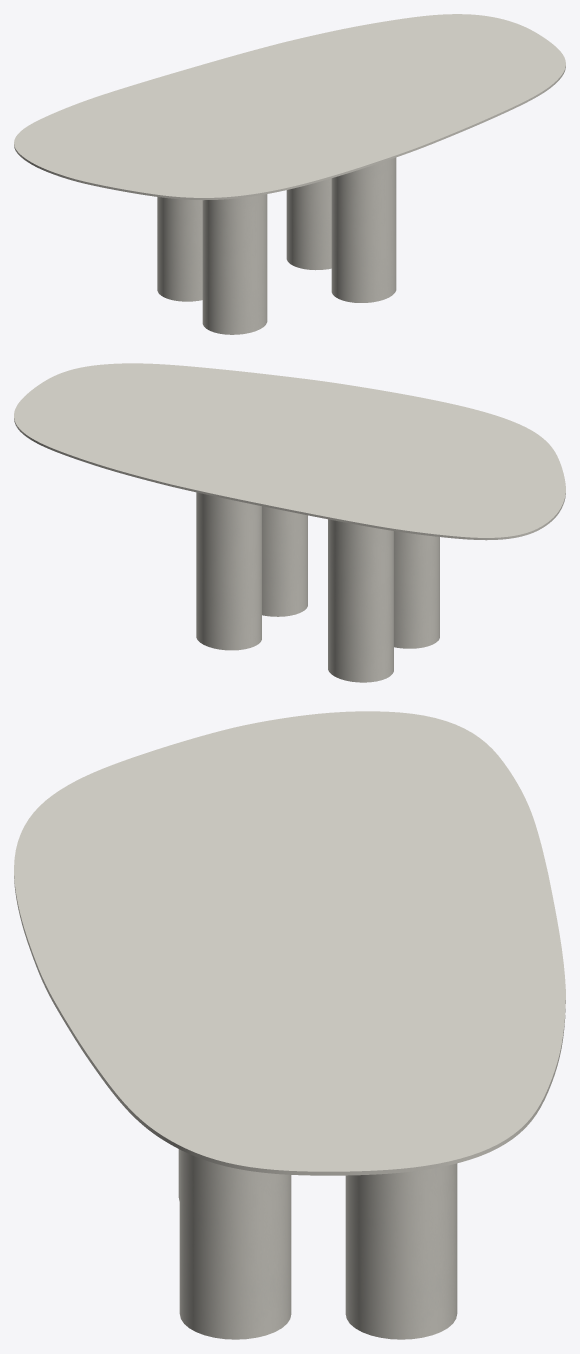
The model's file is pale_leaf2_facet_grove.glb.
3 views of the same model, one above another, from view 1: azimuth 30°, elevation 25°; view 2: azimuth 150°, elevation 25°; view 3: azimuth 270°, elevation 25° (orthographic). The views are drawn at different scales.
Visible parts, largest first — view 1: facet_leaf2, grove; view 2: facet_leaf2, grove; view 3: facet_leaf2, grove.
Part boxes in pixels (bbox=[...]): facet_leaf2: bbox=[14, 14, 565, 200]; grove: bbox=[157, 157, 396, 334]; facet_leaf2: bbox=[14, 363, 565, 540]; grove: bbox=[196, 492, 439, 682]; facet_leaf2: bbox=[14, 711, 565, 1175]; grove: bbox=[178, 1149, 457, 1339].
Bounding box in the file's own units: 7.5 × 2.51 × 3.8.
1 material, 1 textured.
